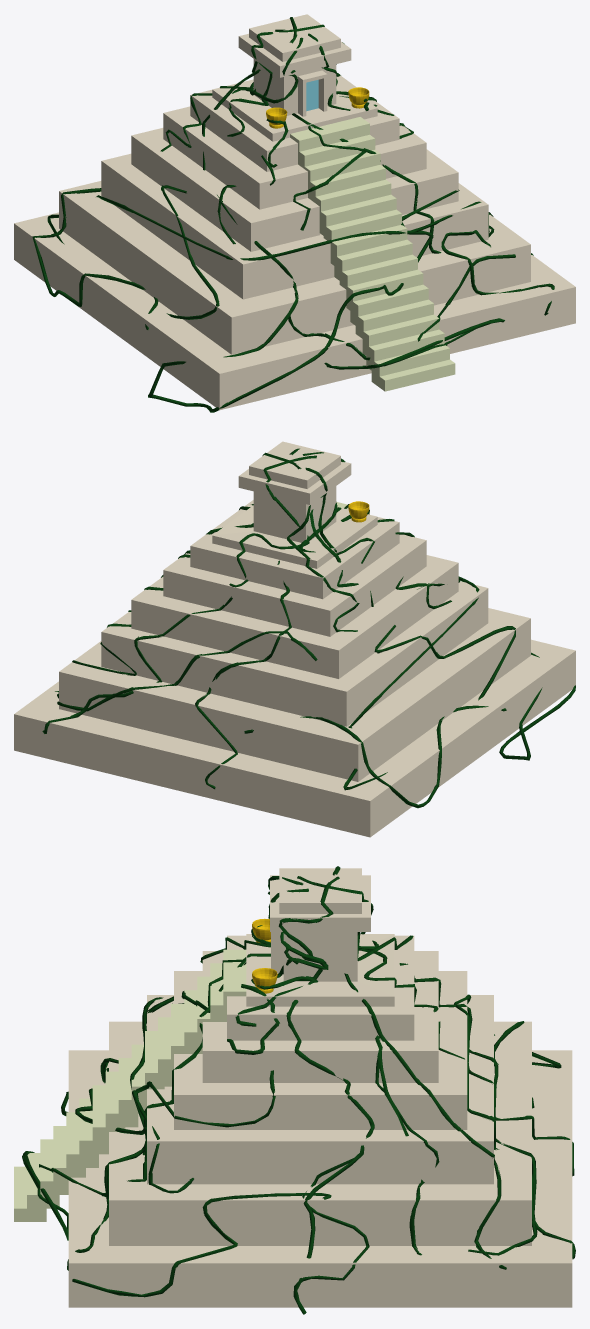
The model's file is Temple.fbx.
The picture shows the model from 3 angles, top to bottom: view 1: azimuth 30°, elevation 25°; view 2: azimuth 150°, elevation 25°; view 3: azimuth 270°, elevation 25°; orthographic projection. The views are drawn at different scales.
Visible parts, largest first — view 1: Cube.003, Cube.004, BezierCurve.002, BezierCurve.001, Cube.005; view 2: Cube.003, BezierCurve.002, BezierCurve.001; view 3: Cube.003, Cube.004, BezierCurve.002, BezierCurve.001, Cube.005.
Part boxes in pixels (<box>): Cube.003: <box>14,14,575,410</box>; Cube.004: <box>290,117,455,391</box>; BezierCurve.002: <box>32,17,554,412</box>; BezierCurve.001: <box>33,24,553,411</box>; Cube.005: <box>266,87,369,128</box>; Cube.003: <box>14,441,575,837</box>; BezierCurve.002: <box>43,448,575,808</box>; BezierCurve.001: <box>42,450,572,789</box>; Cube.003: <box>68,868,572,1307</box>; Cube.004: <box>14,949,246,1221</box>; BezierCurve.002: <box>23,866,575,1314</box>; BezierCurve.001: <box>22,873,574,1314</box>; Cube.005: <box>252,918,277,993</box>.
Size of the model in its own units: 3225 by 2466 by 3434.
